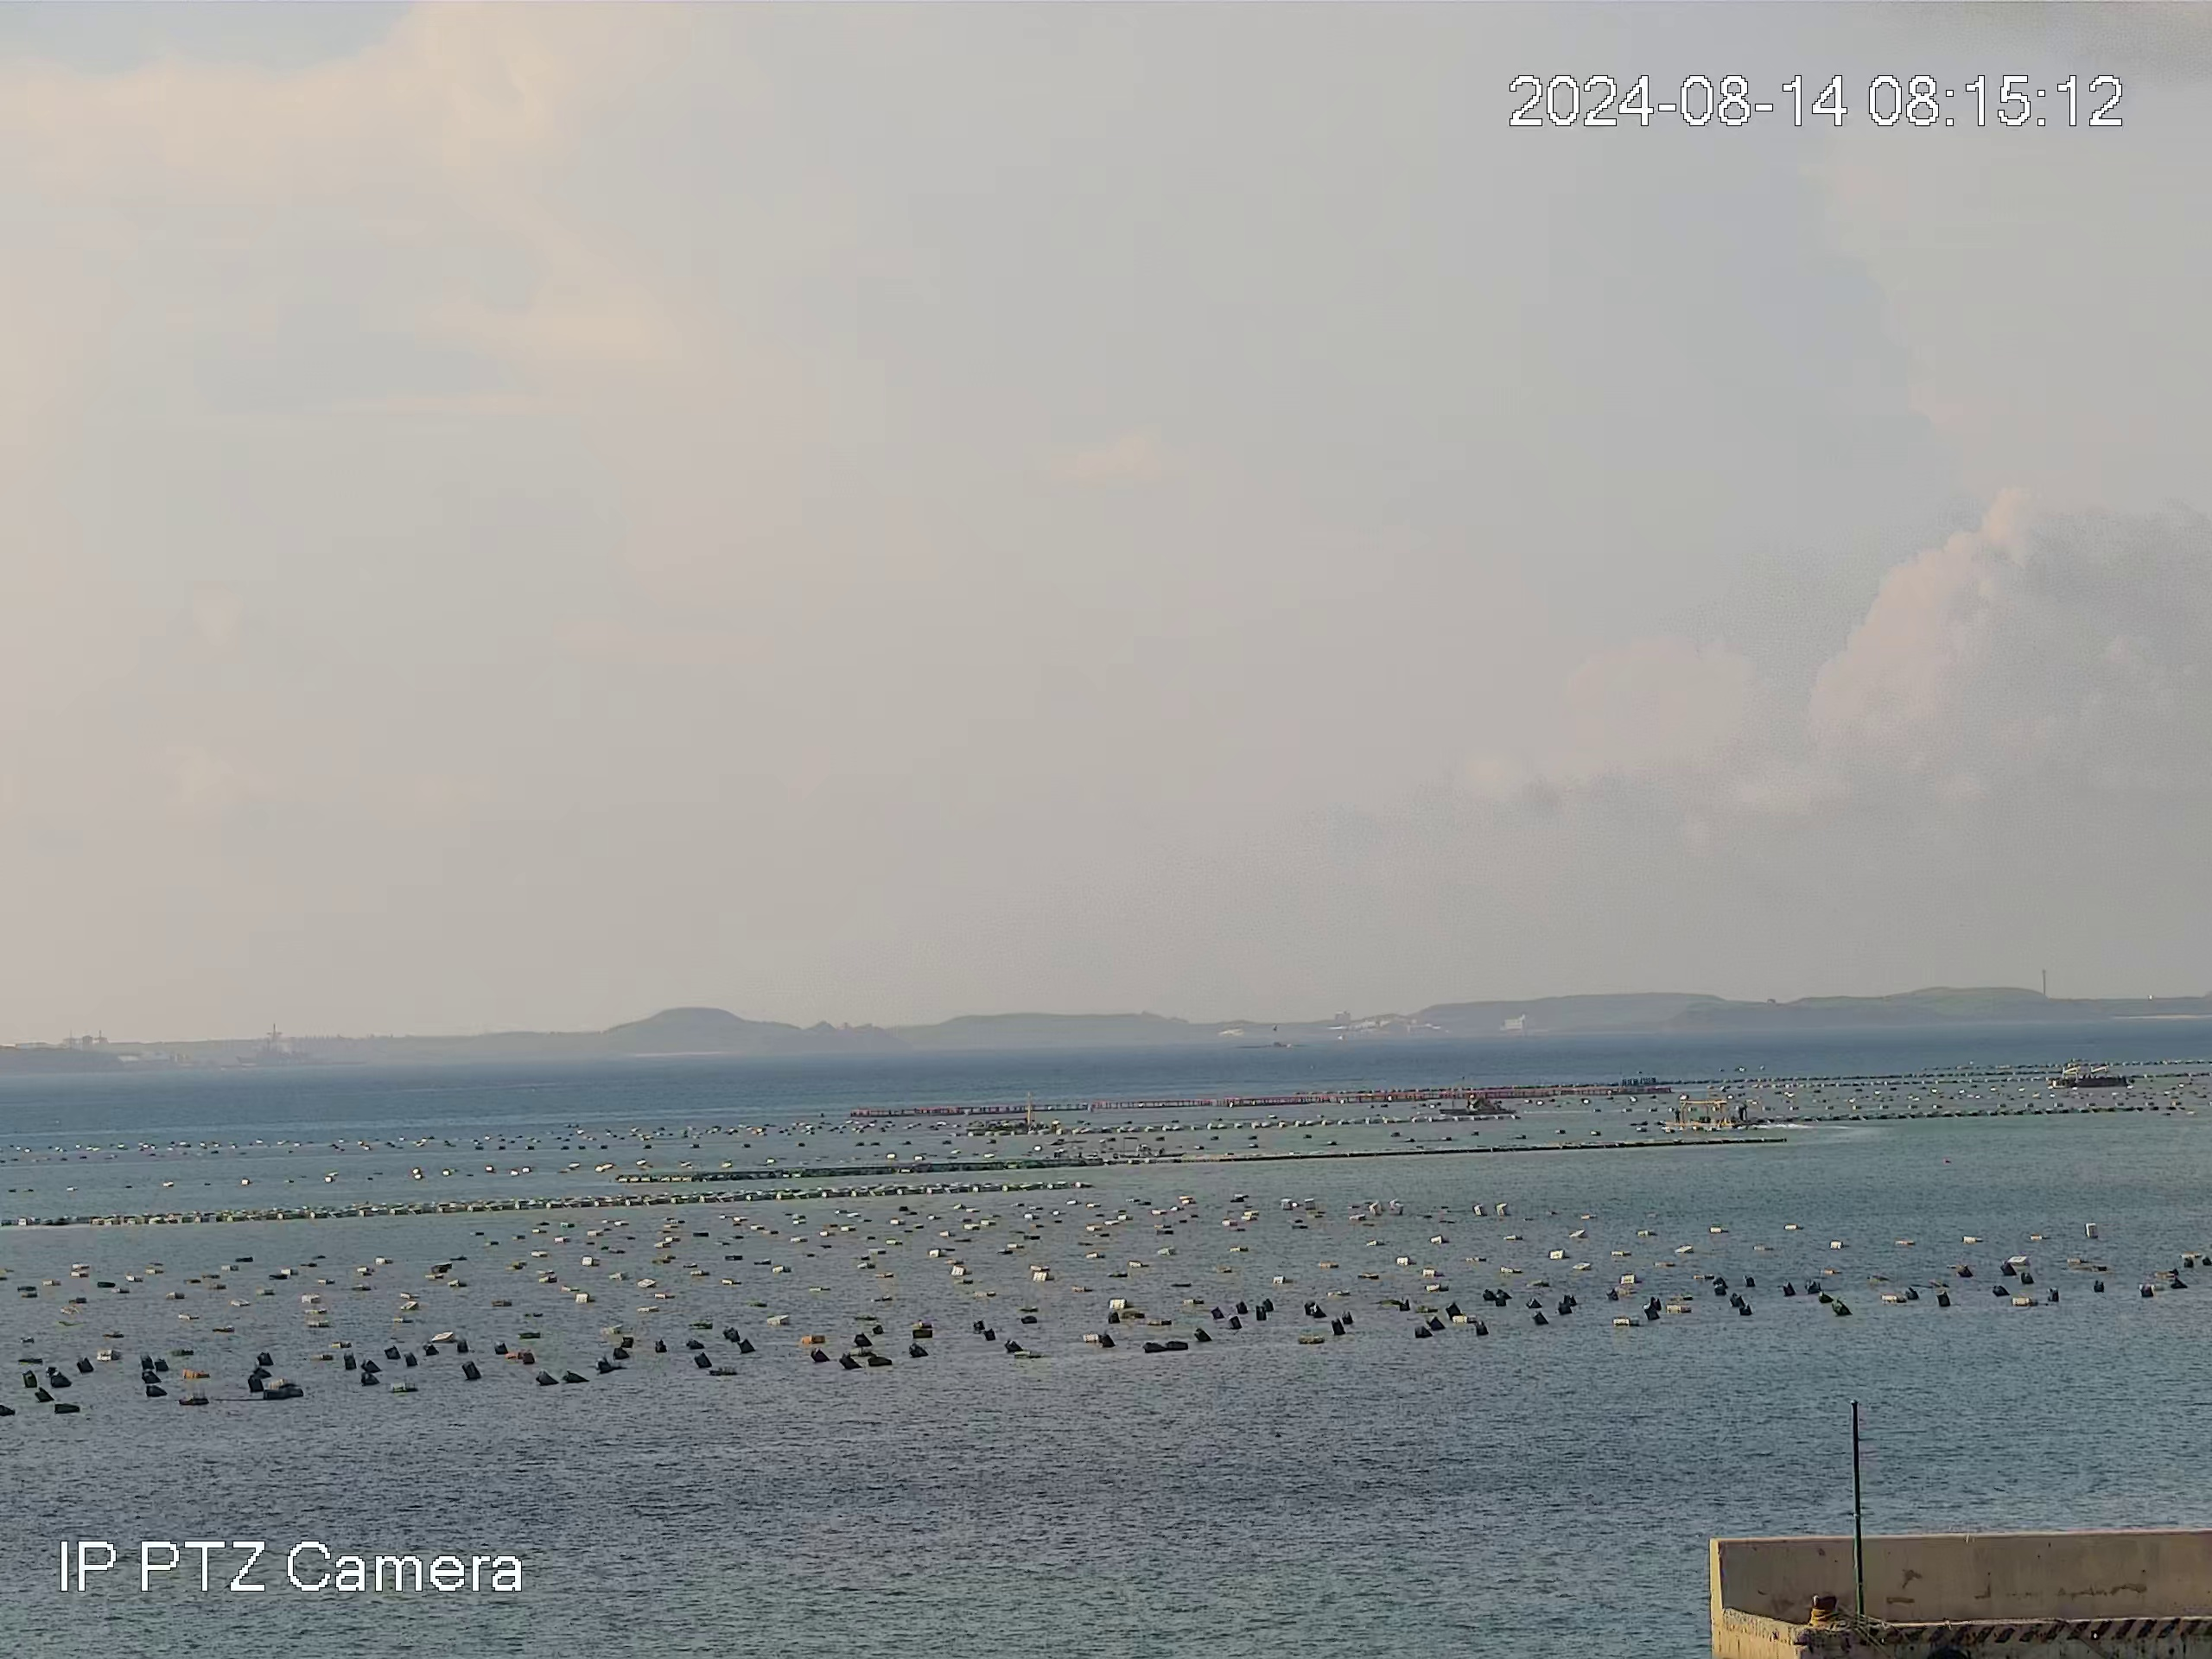boat: (1663, 1096, 1771, 1131), (2050, 1065, 2134, 1089), (1433, 1094, 1519, 1117)
